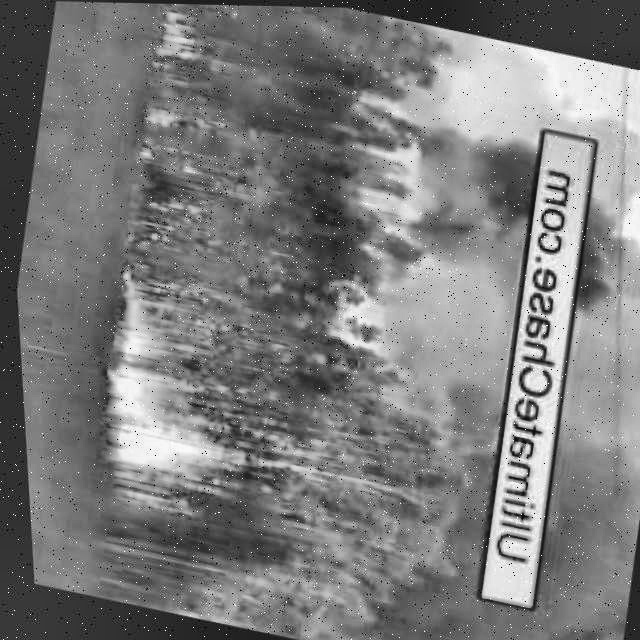Fire: (88, 288, 225, 497), (360, 168, 425, 236), (404, 400, 482, 455), (153, 6, 202, 69), (136, 101, 178, 167)
Smoke: (282, 15, 579, 640), (483, 57, 640, 640)
